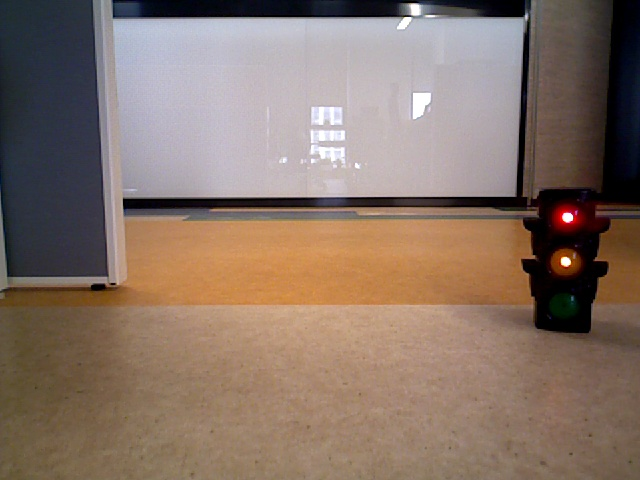red: (538, 190, 588, 328)
